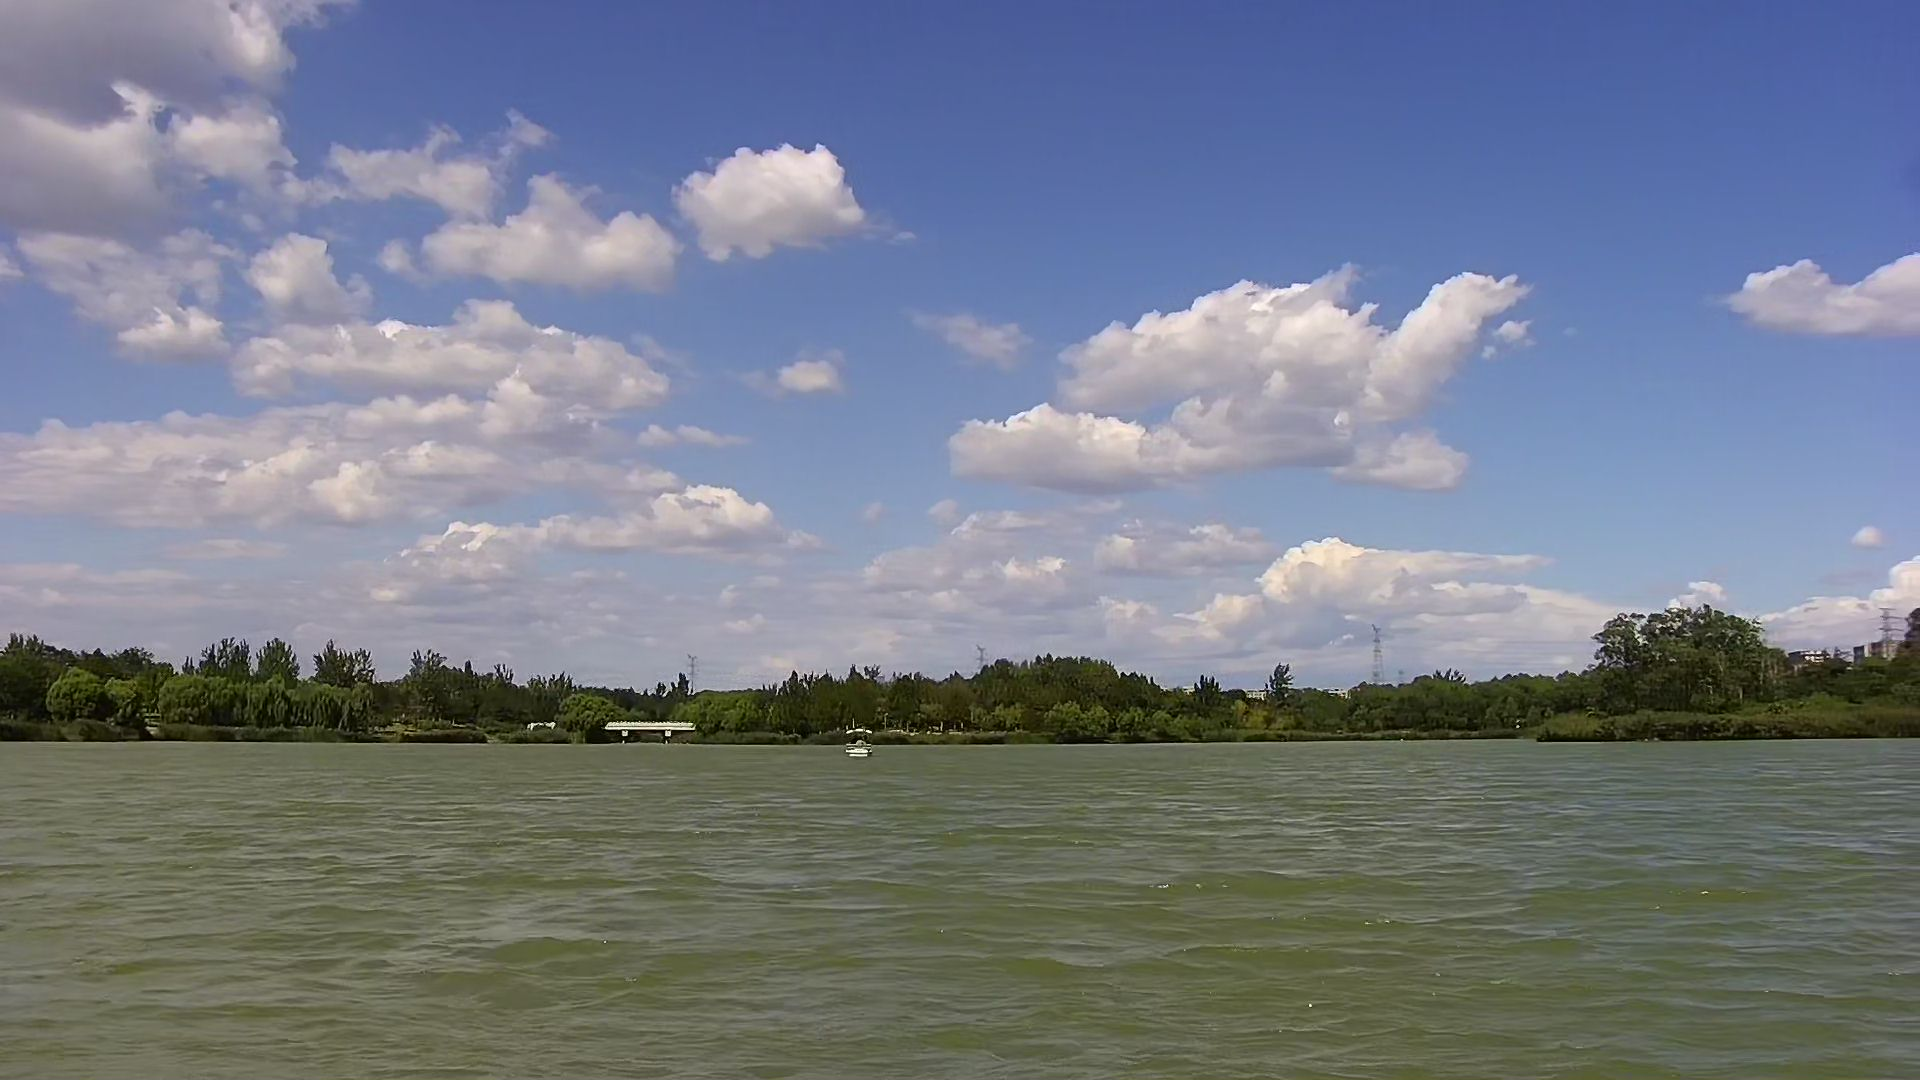boat: (835, 724, 880, 766)
bridge: (599, 709, 698, 740)
